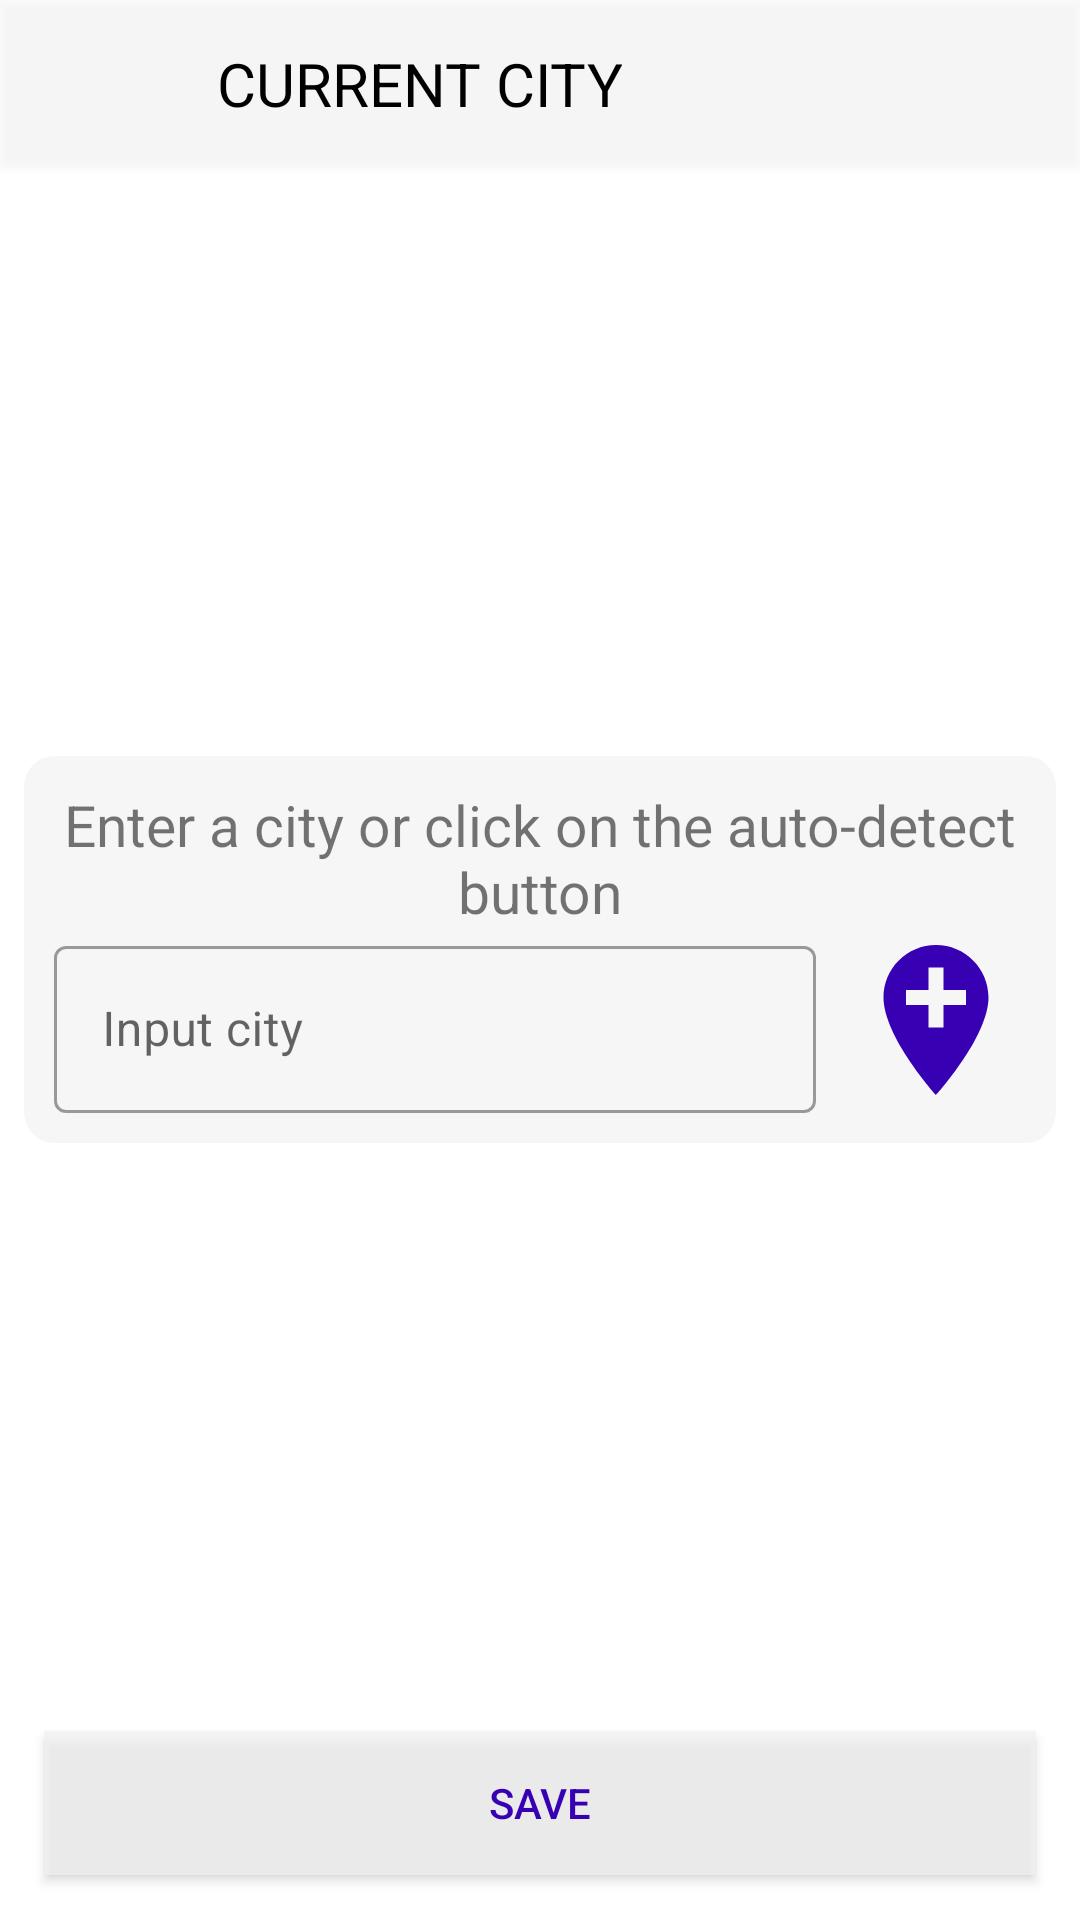

Icons on this 1080px x 1920px Android screen, each with its box as (x1, y1, x2, y2):
add location: (883, 945, 989, 1095)
